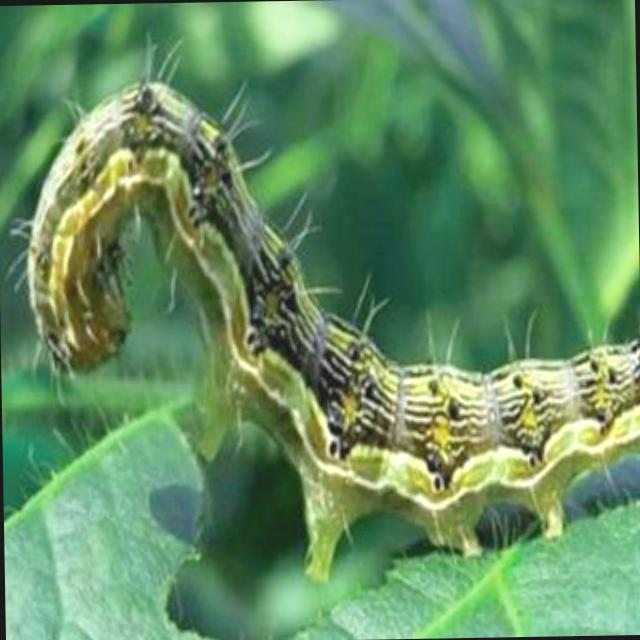Cotton bollworm: (13, 33, 640, 599)
